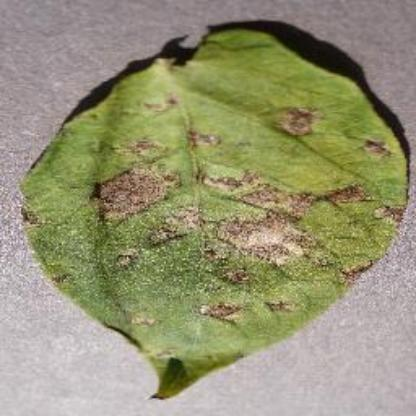Early-Blight: (20, 23, 412, 397)
